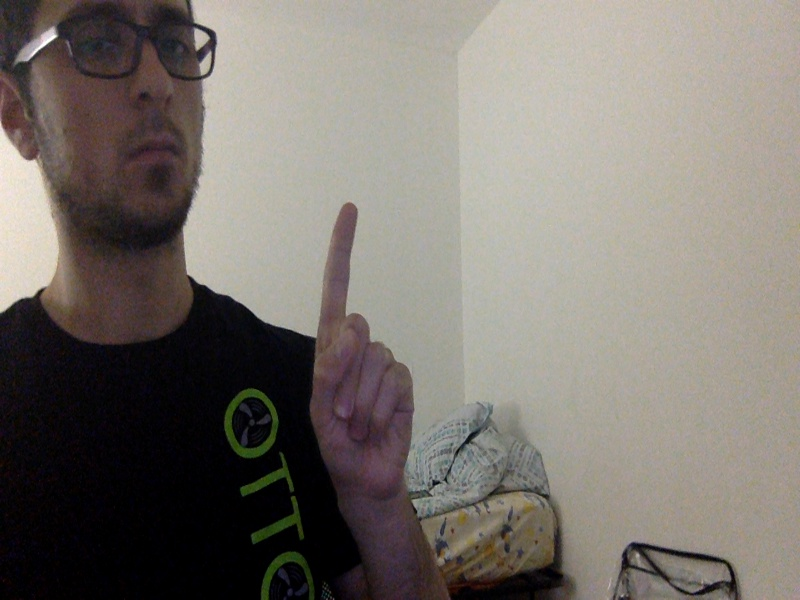1-hand: (309, 203, 414, 492)
